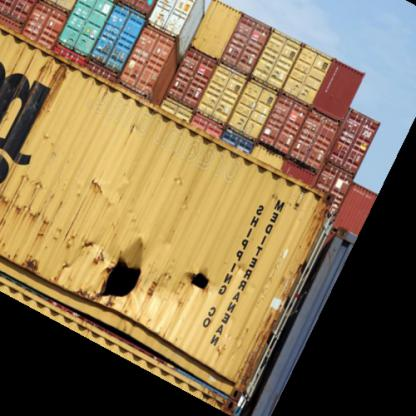Damage: (3, 182, 68, 254), (70, 244, 145, 298), (169, 254, 223, 307)
